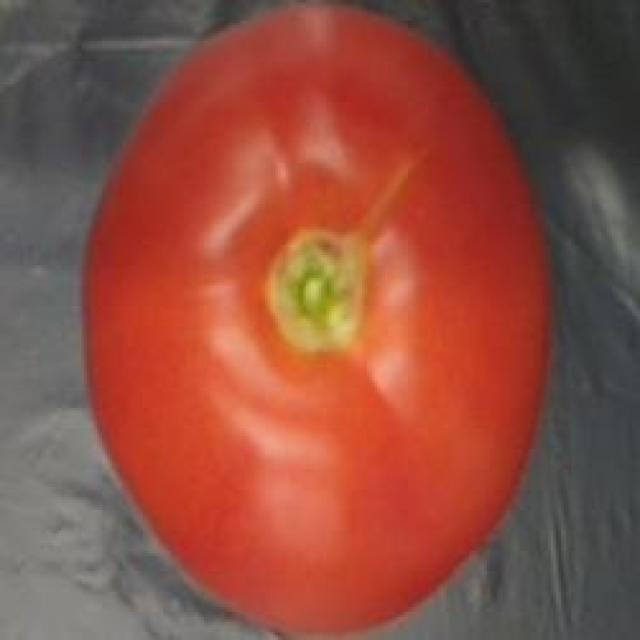ripe tomato: (69, 0, 568, 640)
